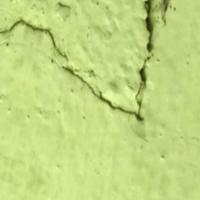crack: (1, 0, 192, 127)
